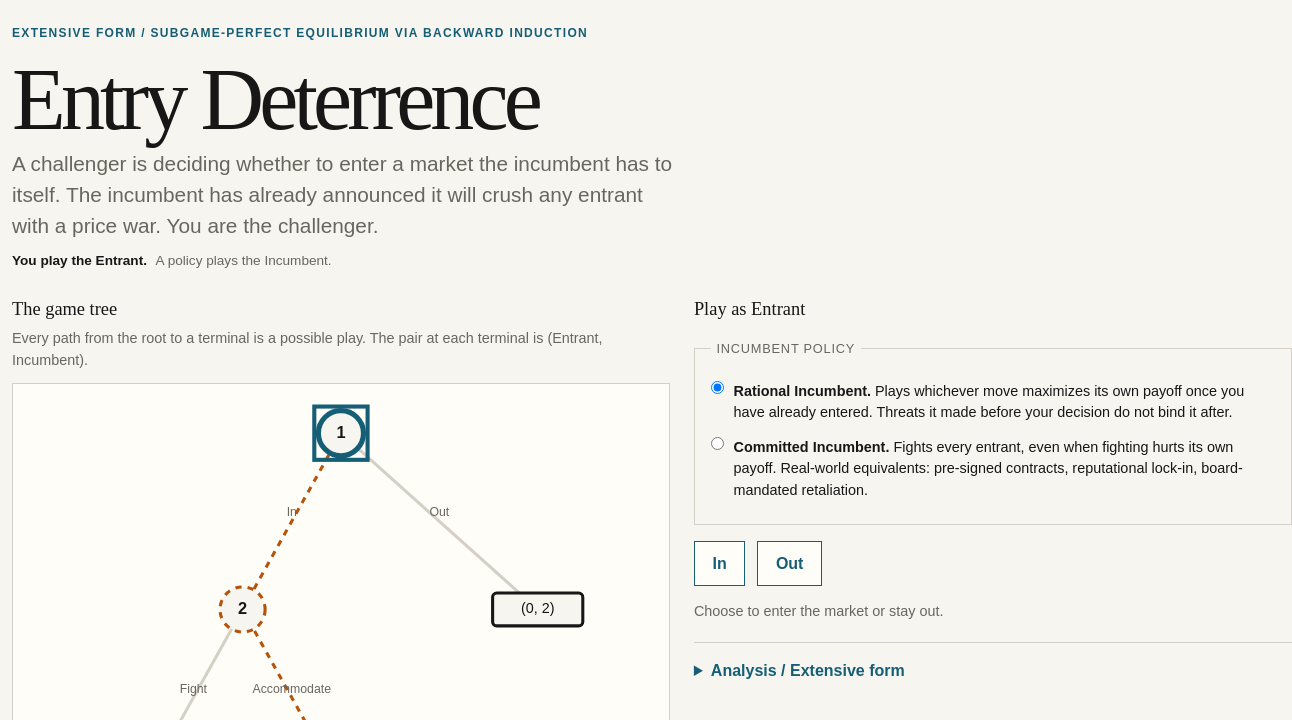
Test: extensive-form play surface — entry deterrence › switching to the committed incumbent turns In into a mutual loss
The image size is (1292, 720).
Step 1. Click the radio button labelled "Committed Incumbent" → click(717, 443), box [711, 437, 724, 450]
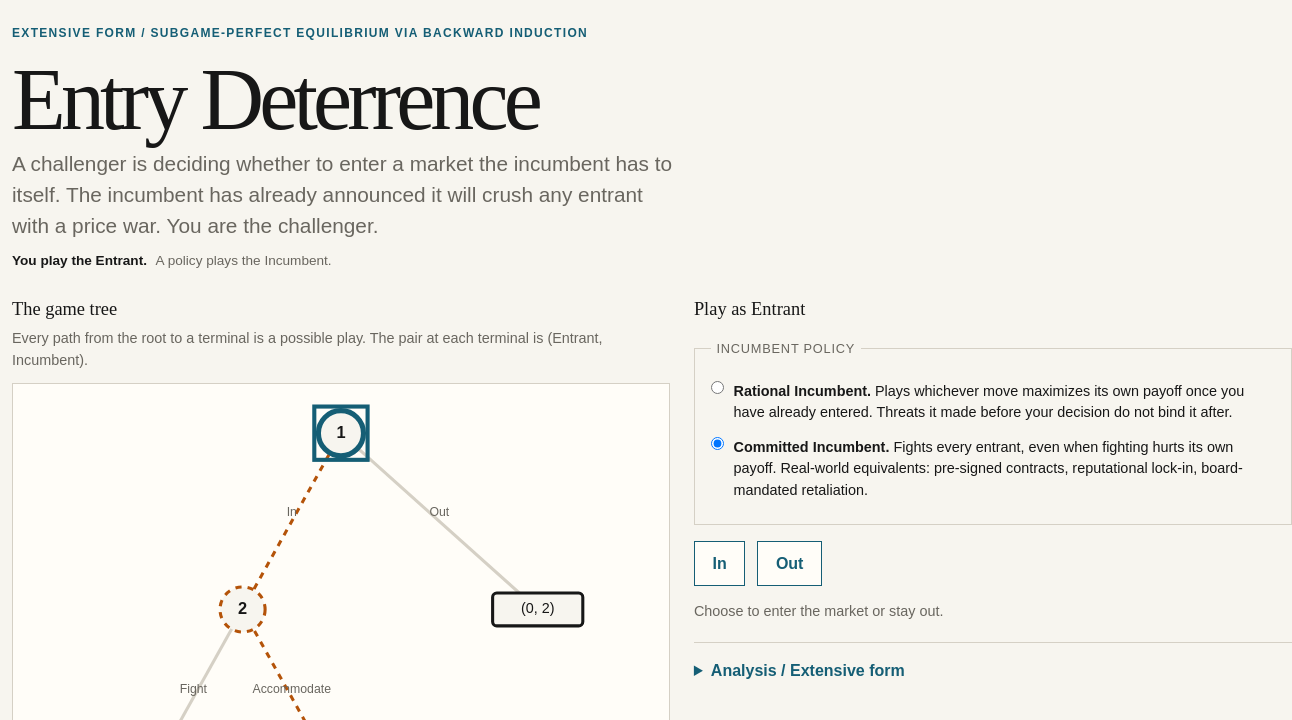
Step 2. Click the button "In" → click(720, 564), box [694, 541, 745, 586]
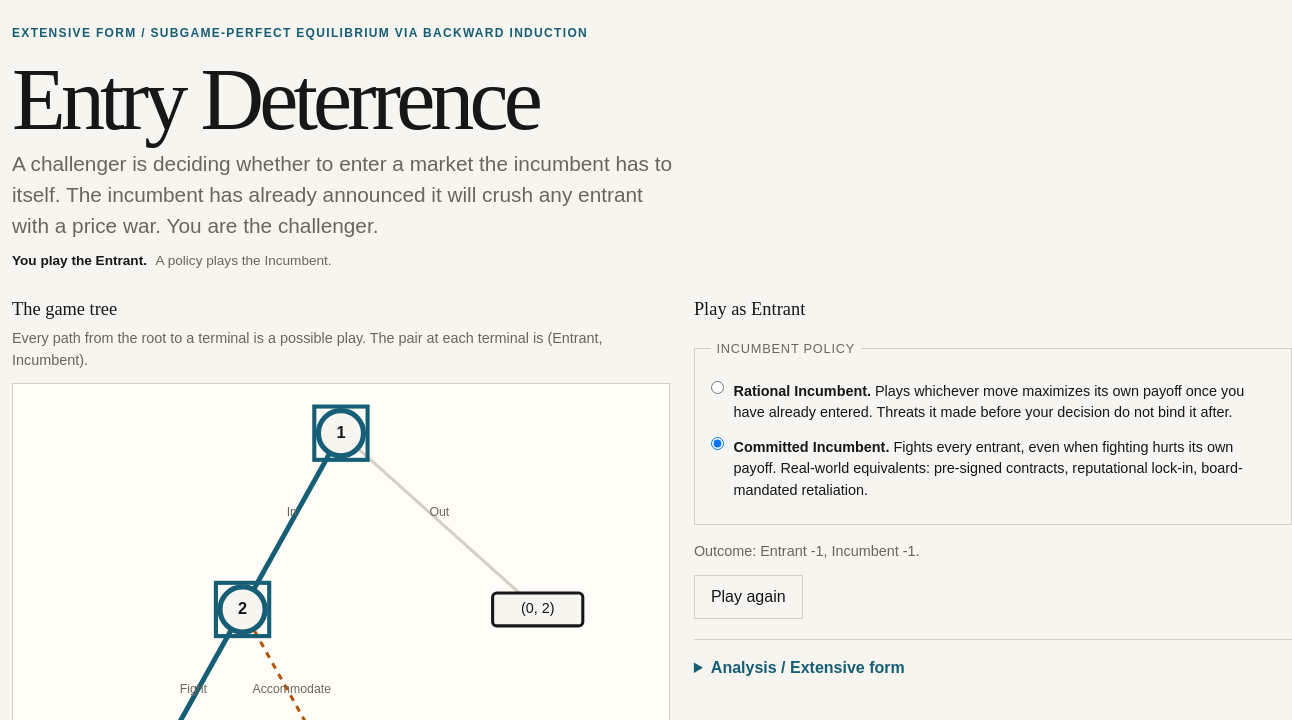
Now the text "Outcome: Entrant -1, Incumbent -1." is shown, box [694, 543, 920, 559]
